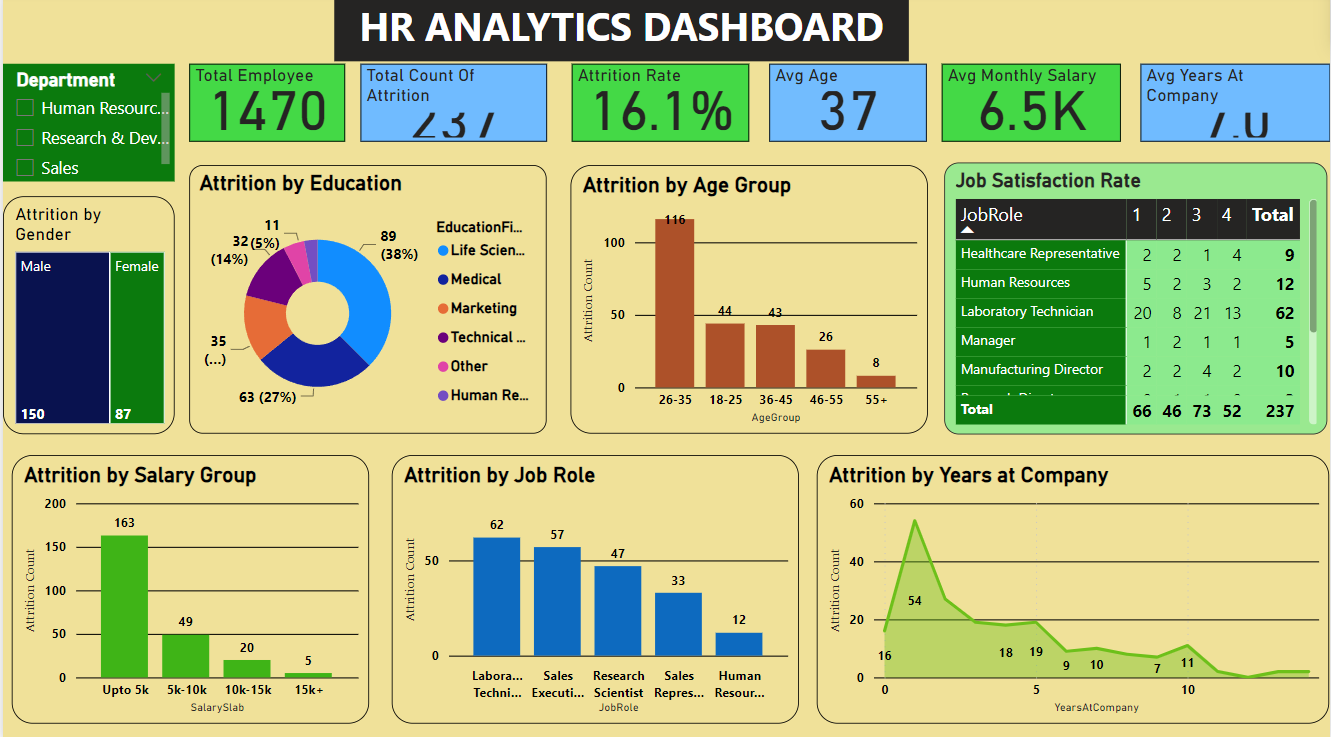

What the dashboard file says about the page in this screenshot:
{"tool":"powerbi","page":{"name":"Page 1","canvas":[1280,720],"ordinal":0},"visuals":[{"type":"card","title":"Total Employee","fields":{"Values":["Count(HR_Analytics.EmpID)"]},"box":[180,66.6,150.2,75.1],"z":0},{"type":"card","title":"Total Count Of Attrition","fields":{"Values":["Sum(HR_Analytics.Attrition Cnt)"]},"box":[344.4,66.6,180,75.1],"z":1000},{"type":"card","title":"Attrition Rate","fields":{"Values":["HR_Analytics.Attrition Rate"]},"box":[548.5,66.6,171.5,75.1],"z":2000},{"type":"card","title":"Avg Age","fields":{"Values":["Avg(HR_Analytics.Age)"]},"box":[739.8,66.6,151.7,75.1],"z":3000},{"type":"card","title":"Avg Years At Company","fields":{"Values":["Avg(HR_Analytics.YearsAtCompany)"]},"box":[1097,66.6,182.8,75.1],"z":4000},{"type":"card","title":"Avg Monthly Salary","fields":{"Values":["Avg(HR_Analytics.MonthlyIncome)"]},"box":[905.7,66.6,172.9,75.1],"z":5000},{"type":"donutChart","title":"Attrition by Education","fields":{"Y":["Sum(HR_Analytics.Attrition Cnt)"],"Category":["HR_Analytics.EducationField"]},"box":[180,164.4,344.4,259.4],"z":6000},{"type":"columnChart","title":"Attrition by Age Group","fields":{"Category":["HR_Analytics.AgeGroup"],"Y":["Sum(HR_Analytics.Attrition Cnt)"]},"box":[547.1,164.4,344.4,259.4],"z":7000},{"type":"pivotTable","title":"Job Satisfaction Rate","fields":{"Rows":["HR_Analytics.JobRole"],"Columns":["HR_Analytics.JobSatisfaction"],"Values":["Sum(HR_Analytics.Attrition Cnt)"]},"box":[908.5,161.6,369.9,262.2],"z":8000},{"type":"columnChart","title":"Attrition by Salary Group","fields":{"Category":["HR_Analytics.SalarySlab"],"Y":["Sum(HR_Analytics.Attrition Cnt)"]},"box":[8.5,443.6,344.4,259.4],"z":9000},{"type":"columnChart","title":"Attrition by Job Role","fields":{"Y":["Sum(HR_Analytics.Attrition Cnt)"],"Category":["HR_Analytics.JobRole"]},"box":[375.6,443.6,392.6,259.4],"z":10000},{"type":"stackedAreaChart","title":"Attrition by Years at Company","fields":{"Y":["Sum(HR_Analytics.Attrition Cnt)"],"Category":["HR_Analytics.YearsAtCompany"]},"box":[785.2,443.6,494.6,259.4],"z":11000},{"type":"treemap","title":"Attrition by Gender","fields":{"Group":["HR_Analytics.Gender"],"Values":["Sum(HR_Analytics.Attrition Cnt)"]},"box":[0,194.2,165.8,229.6],"z":12000},{"type":"slicer","fields":{"Values":["HR_Analytics.Department"]},"box":[0,66.2,165.6,113.8],"z":13000},{"type":"textbox","box":[320,0,554,64],"z":14000}]}

Visuals, with their boxes in screenshot pixels (x1, y1, x2, y2), scaled from the page's 1280x720 canvas onto the 1331x737 screenshot:
"Total Employee" card: <region>187, 68, 343, 145</region>
"Total Count Of Attrition" card: <region>358, 68, 545, 145</region>
"Attrition Rate" card: <region>570, 68, 749, 145</region>
"Avg Age" card: <region>769, 68, 927, 145</region>
"Avg Years At Company" card: <region>1141, 68, 1330, 145</region>
"Avg Monthly Salary" card: <region>942, 68, 1122, 145</region>
"Attrition by Education" donutChart: <region>187, 168, 545, 434</region>
"Attrition by Age Group" columnChart: <region>569, 168, 927, 434</region>
"Job Satisfaction Rate" pivotTable: <region>945, 165, 1329, 434</region>
"Attrition by Salary Group" columnChart: <region>9, 454, 367, 720</region>
"Attrition by Job Role" columnChart: <region>391, 454, 799, 720</region>
"Attrition by Years at Company" stackedAreaChart: <region>816, 454, 1330, 720</region>
"Attrition by Gender" treemap: <region>0, 199, 172, 434</region>
slicer - HR_Analytics.Department: <region>0, 68, 172, 184</region>
textbox: <region>333, 0, 909, 66</region>
